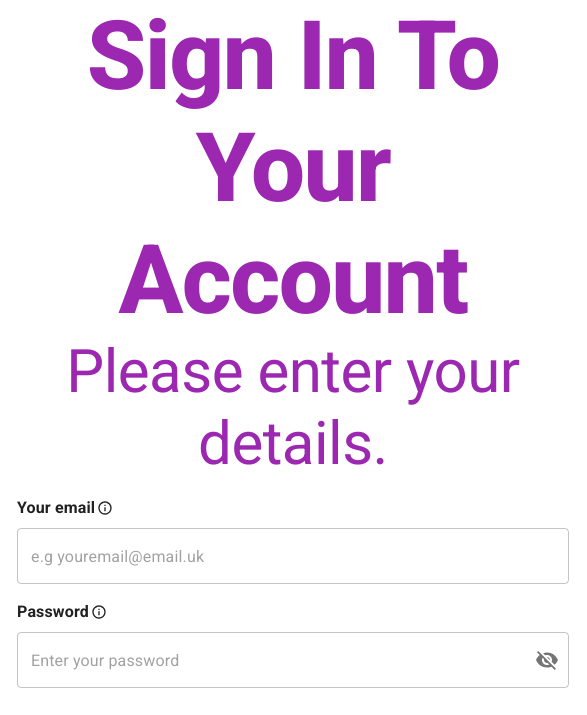
Scenario: Login Page › Should show credential errors on parse
The image size is (587, 715).
Type "email@email" into the field with placeholder "e.g youremail@email.uk" at (293, 556), box x1=17 y1=528 x2=569 y2=584
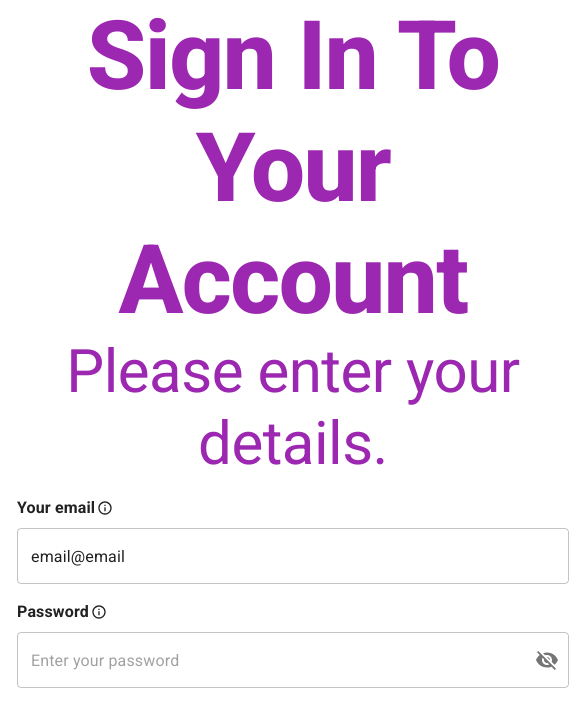
Clear the password field with placeholder "Enter your password" at (268, 660), box x1=17 y1=632 x2=519 y2=688
(page scrolled)
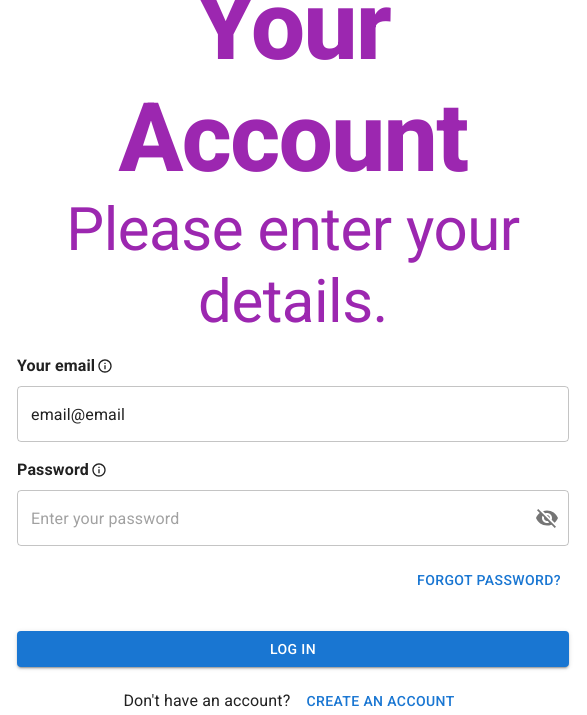
Click the button "Log In" at (293, 649), box x1=17 y1=631 x2=569 y2=667
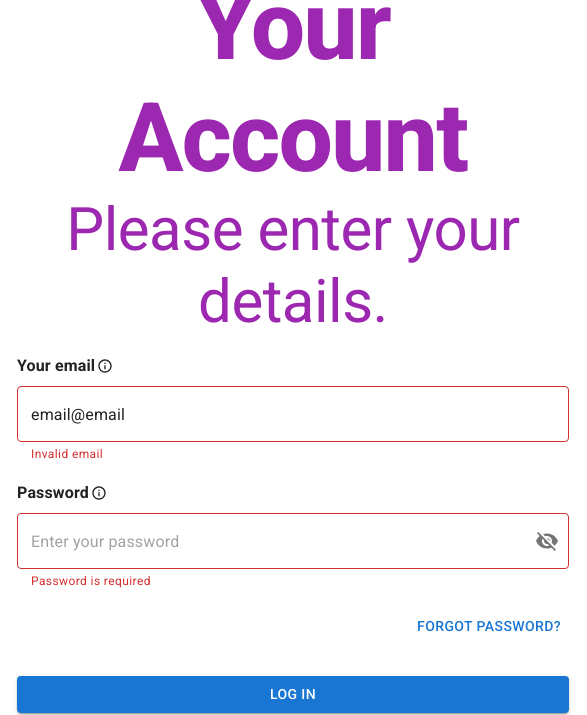
Result: the text "Invalid email" is shown at x1=31 y1=447 x2=103 y2=461
Result: the text "Password is required" is shown at x1=31 y1=574 x2=151 y2=588
